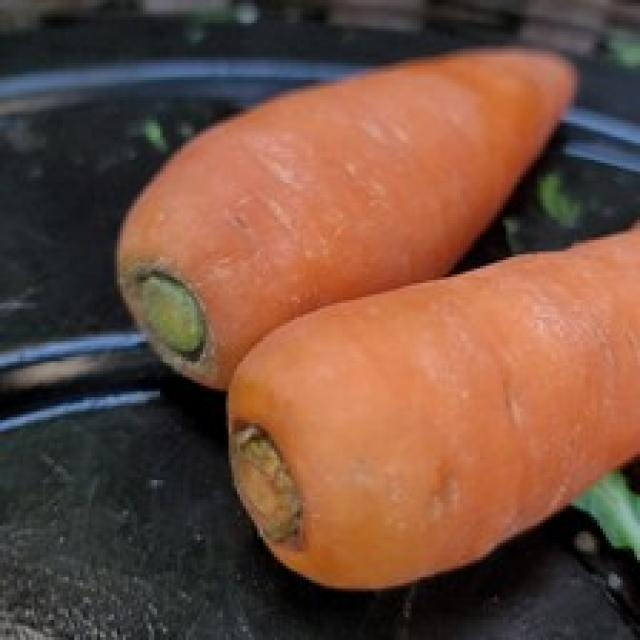carrot: (95, 30, 604, 398), (218, 215, 640, 590)
